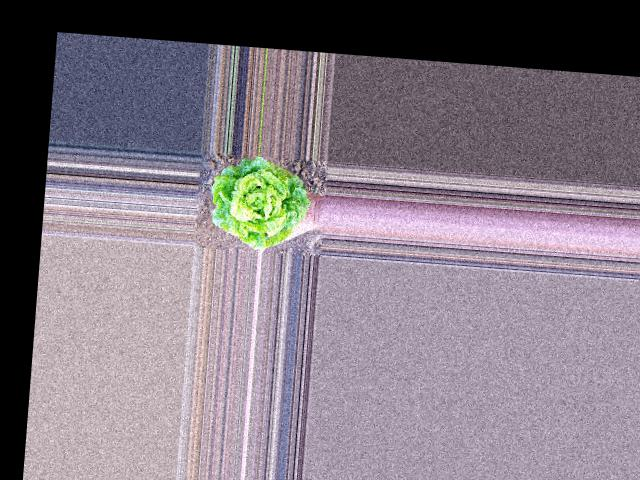lettuce: (205, 155, 306, 250)
